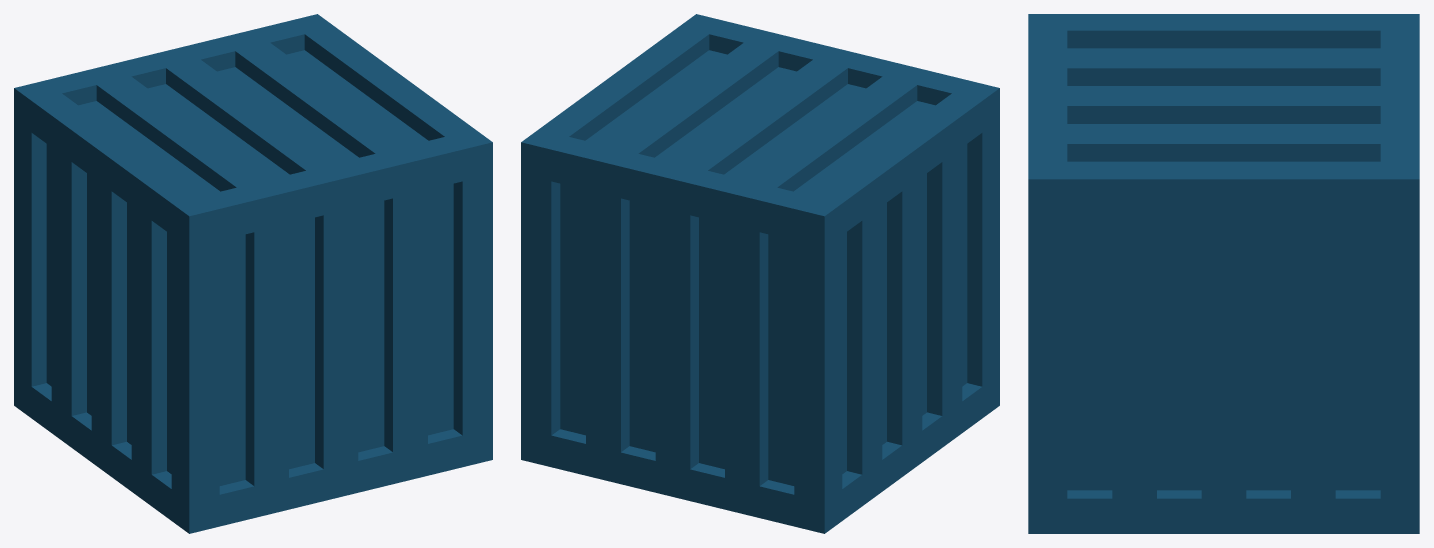
The model's file is caja.fbx.
3 views of the same model, side by side, from view 1: azimuth 30°, elevation 25°; view 2: azimuth 150°, elevation 25°; view 3: azimuth 270°, elevation 25° (orthographic). The views are drawn at different scales.
Parts seen in each view (by area): view 1: pCube1; view 2: pCube1; view 3: pCube1.
Part boxes in pixels (bbox=[...]): pCube1: bbox=[14, 14, 492, 533]; pCube1: bbox=[521, 14, 999, 533]; pCube1: bbox=[1028, 14, 1419, 533].
Size of the model in its own units: 1 by 1 by 1.
